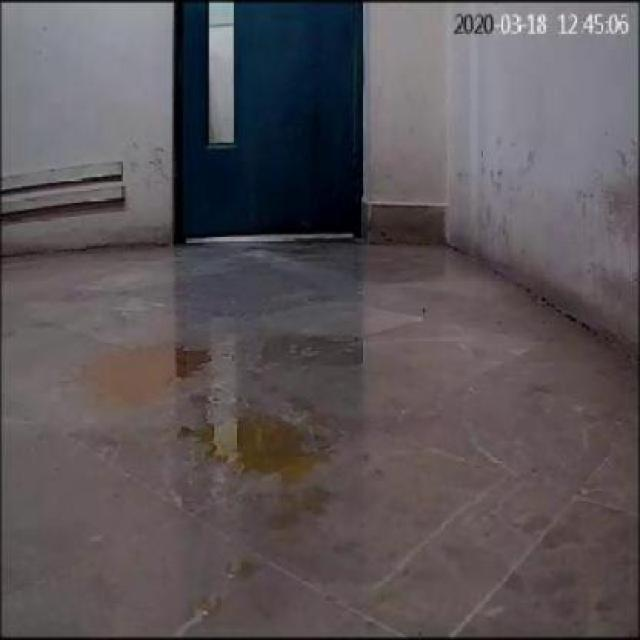spillage: (179, 418, 316, 474), (99, 350, 210, 393)
